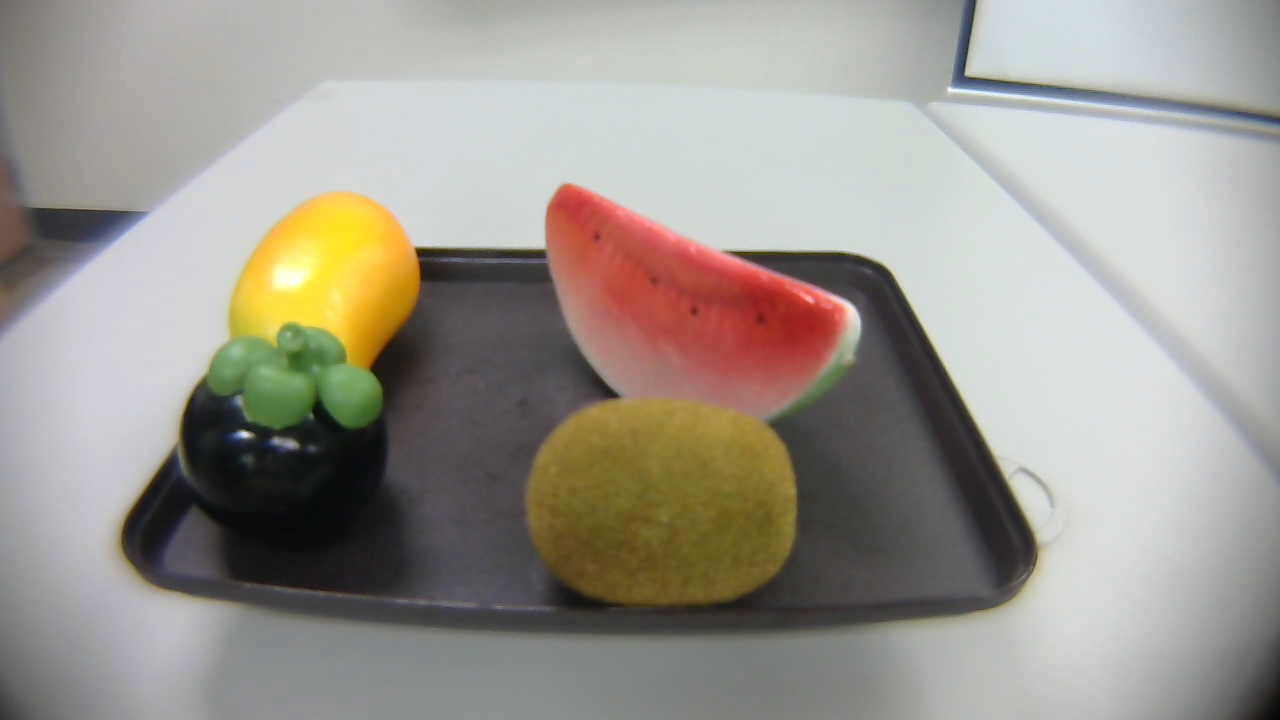kiwi fruit: (525, 397, 801, 597)
mangosteen: (174, 329, 399, 540)
water melon: (535, 174, 868, 443)
yellow mango: (222, 188, 425, 403)
